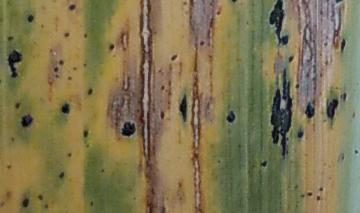tarspot: (271, 68, 293, 157), (269, 1, 289, 45), (7, 49, 22, 78), (119, 121, 137, 137), (179, 93, 188, 124), (328, 99, 339, 118), (305, 102, 316, 119), (20, 114, 33, 127), (60, 103, 70, 115), (226, 111, 236, 123), (340, 38, 347, 53), (339, 92, 346, 103), (22, 198, 29, 208), (82, 129, 89, 139), (287, 54, 295, 62), (260, 160, 268, 168), (27, 14, 34, 23), (170, 53, 177, 62), (159, 110, 165, 120), (108, 43, 115, 51), (14, 102, 21, 110), (7, 35, 14, 42), (294, 83, 301, 90), (306, 190, 313, 197), (68, 5, 76, 11), (298, 131, 304, 139), (5, 163, 12, 169), (37, 195, 44, 201), (42, 203, 49, 209), (58, 172, 64, 179), (160, 84, 166, 91), (199, 39, 205, 46), (87, 88, 92, 96), (64, 32, 70, 38), (72, 65, 78, 71), (215, 10, 221, 16), (318, 186, 324, 192), (354, 149, 359, 156), (83, 33, 88, 39), (59, 60, 64, 66), (67, 75, 72, 81), (82, 63, 88, 68), (39, 23, 44, 29), (316, 195, 321, 201), (10, 136, 14, 143), (90, 200, 94, 207), (230, 1, 237, 5), (335, 1, 344, 4), (67, 153, 72, 158), (53, 68, 59, 72), (54, 74, 59, 78), (101, 169, 105, 173)
